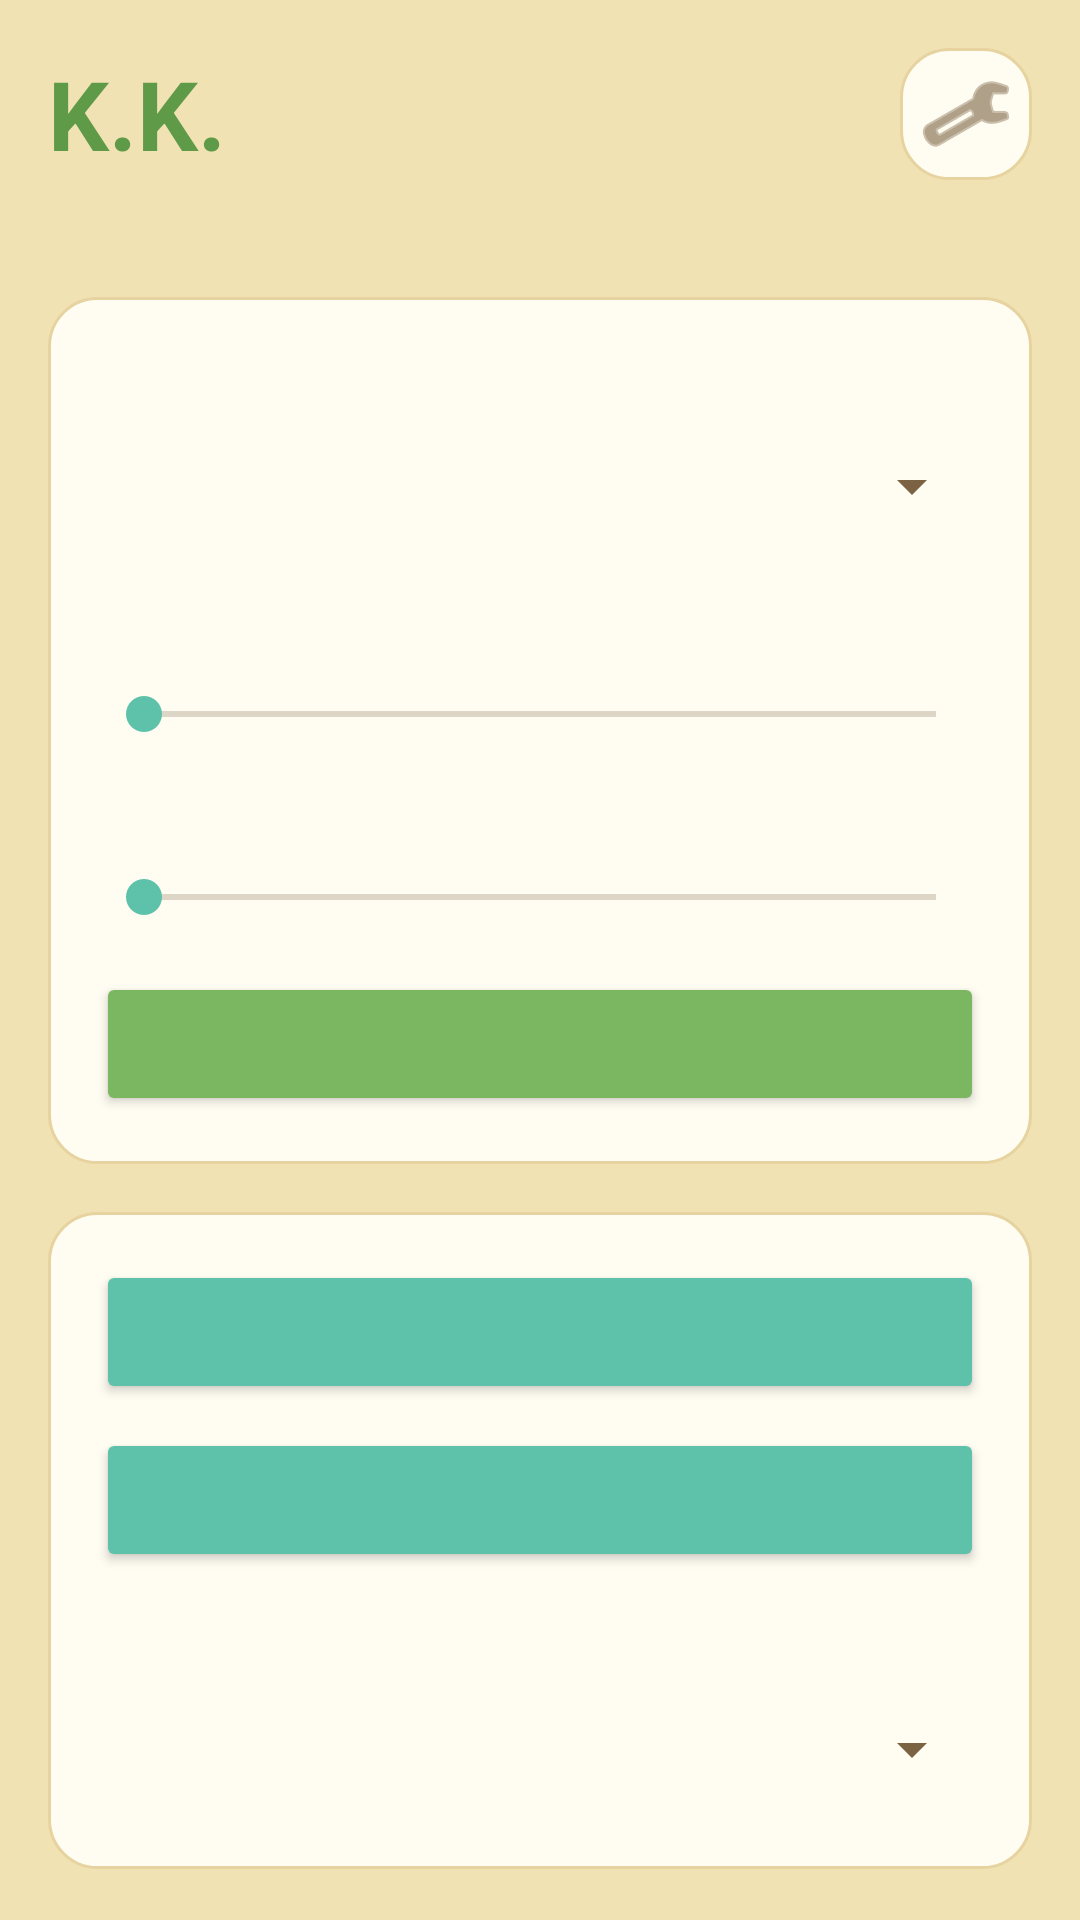

Locate icon controls on the screen. Image size 1080×1920, boxes as (left=x1, top=y1, right=x2, bottom=y2).
settings: (left=903, top=51, right=1029, bottom=177)
